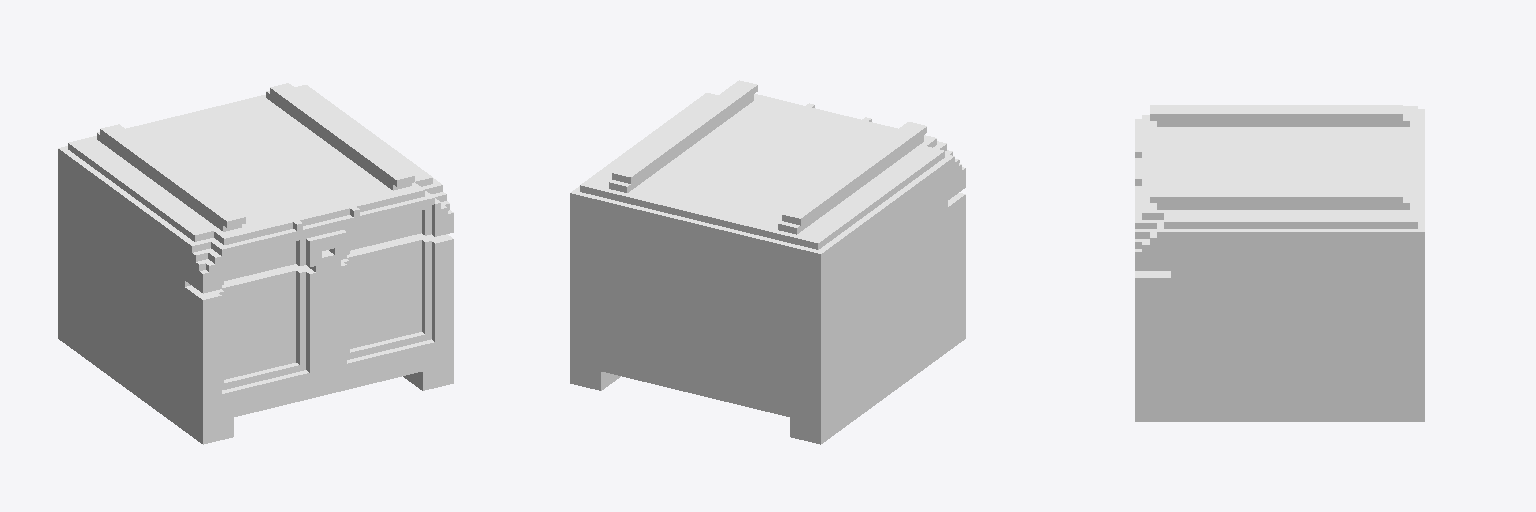
Rendered from Silver.obj.
The picture shows the model from 3 angles: view 1: azimuth 30°, elevation 25°; view 2: azimuth 150°, elevation 25°; view 3: azimuth 270°, elevation 25°; orthographic projection.
Parts seen in each view (by area): view 1: object 1; view 2: object 1; view 3: object 1.
Part boxes in pixels (left/top/right/bottom): object 1: left=58, top=83, right=453, bottom=444; object 1: left=570, top=80, right=965, bottom=444; object 1: left=1135, top=105, right=1424, bottom=421.
Bounding box in the file's own units: 4 × 3.2 × 4.